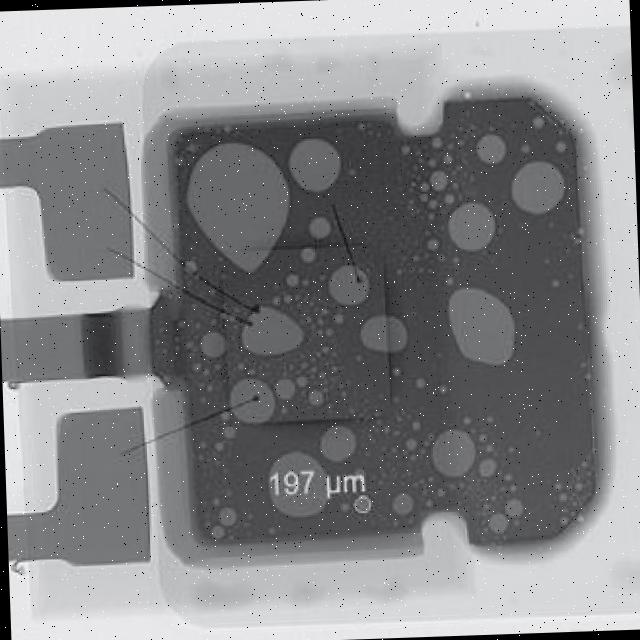chip: (134, 79, 616, 568)
void: (183, 135, 294, 276), (447, 287, 519, 367), (267, 450, 332, 521), (287, 135, 347, 197), (238, 304, 305, 357), (509, 152, 562, 218), (427, 424, 480, 480), (444, 197, 497, 252), (224, 374, 278, 427), (360, 309, 415, 356), (325, 265, 374, 313), (316, 423, 359, 464), (473, 128, 510, 168), (199, 329, 227, 360), (387, 491, 417, 517), (209, 507, 242, 529), (269, 377, 300, 399), (308, 214, 333, 238), (475, 459, 501, 482), (351, 493, 375, 516), (428, 169, 451, 192), (501, 494, 523, 518), (489, 511, 511, 534), (303, 387, 325, 410), (181, 256, 201, 278), (281, 269, 301, 290), (208, 523, 226, 541), (298, 246, 316, 263), (222, 424, 238, 442), (412, 377, 428, 391), (403, 438, 417, 451)
